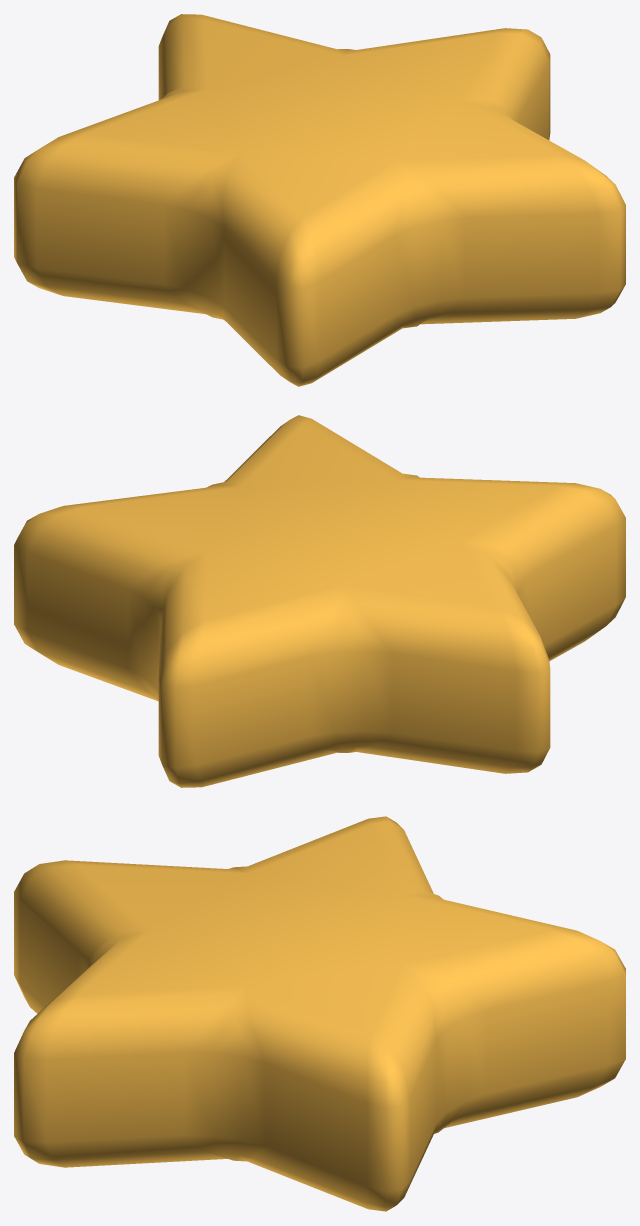
File: star.glb
The picture shows the model from 3 angles, top to bottom: view 1: azimuth 30°, elevation 25°; view 2: azimuth 150°, elevation 25°; view 3: azimuth 270°, elevation 25°; orthographic projection. The views are drawn at different scales.
Visible parts, largest first — view 1: RoundedStar; view 2: RoundedStar; view 3: RoundedStar.
Boxes of the visible parts, left/top/right/bottom form: RoundedStar: left=14, top=14, right=625, bottom=386; RoundedStar: left=14, top=415, right=625, bottom=787; RoundedStar: left=14, top=816, right=625, bottom=1211.
Bounding box in the file's own units: 0.5198 × 0.15 × 0.4944.
